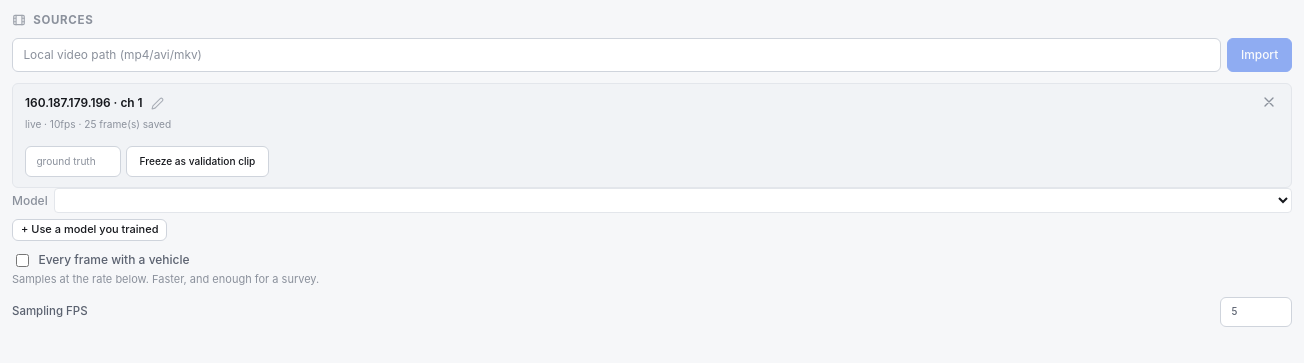
naming a source › renames from the list and keeps the camera beside the new name
The image size is (1304, 363).
Click the button named "rename 160.187".
click(158, 103)  # box [148,95,168,112]
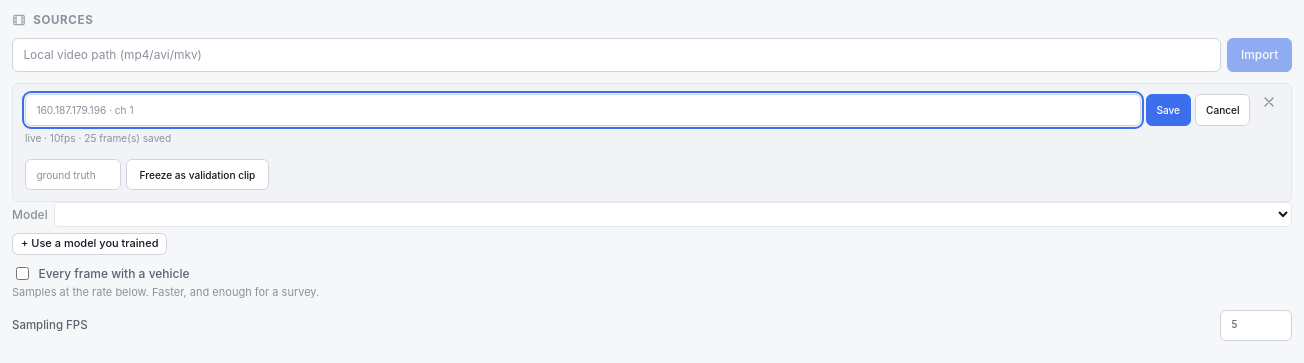
Type "Toll plaza night" into the field named "name for 160.187".
click(583, 110); type("Toll plaza night")  # box [25,94,1141,126]
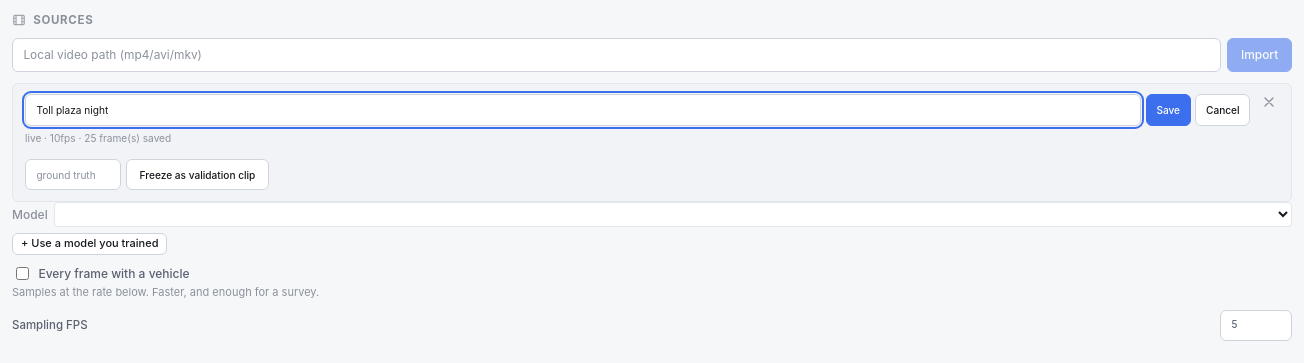
Press Enter in the field named "name for 160.187", box [25,94,1141,126]
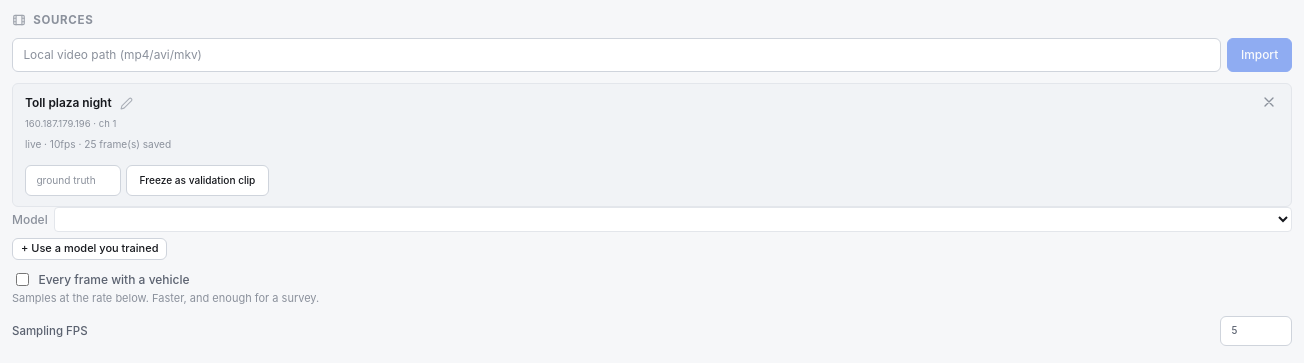
Result: the button "Toll plaza night" is shown at [25,94,112,112]
Result: the text "160.187.179.196 · ch 1" is shown at [25,118,116,129]
